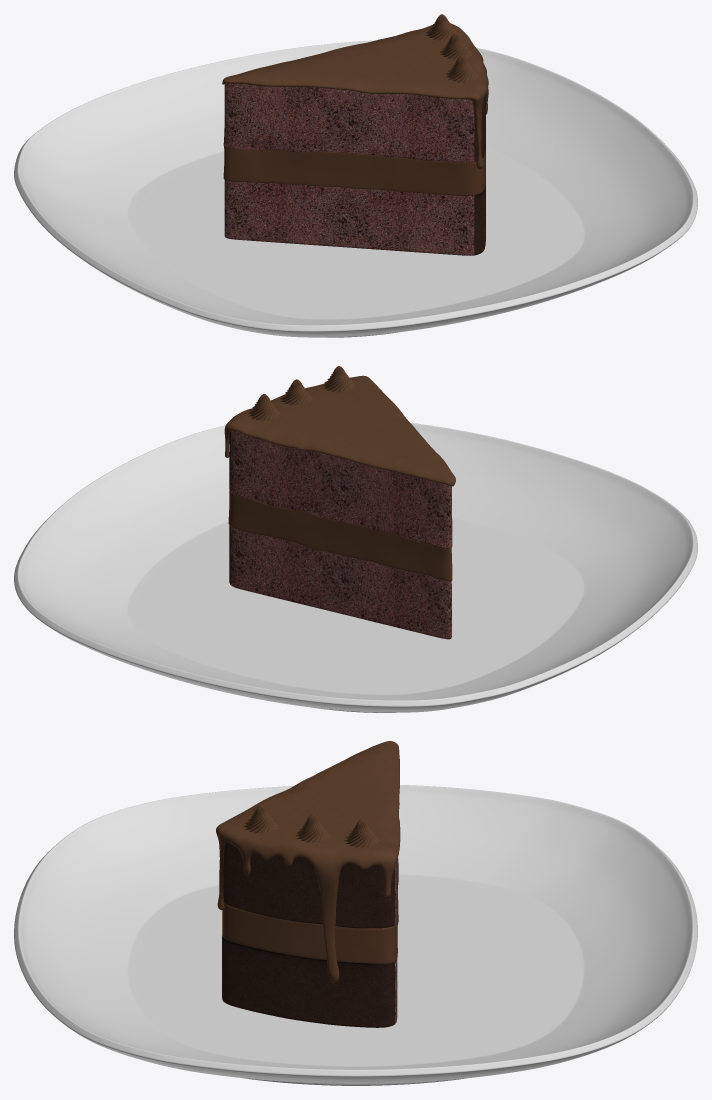
File: sokoladinis_tortas.glb
The picture shows the model from 3 angles, top to bottom: view 1: azimuth 30°, elevation 25°; view 2: azimuth 150°, elevation 25°; view 3: azimuth 270°, elevation 25°; orthographic projection. The views are drawn at different scales.
Parts seen in each view (by area): view 1: Plate, Kremas, Sololadas, Pyragas.001, Circle; view 2: Plate, Kremas, Sololadas, Pyragas.001, Circle; view 3: Plate, Kremas, Sololadas, Pyragas.001, Circle.
Boxes of the visible parts, <box> form: Plate: <box>14,40,697,337</box>; Kremas: <box>223,83,485,255</box>; Sololadas: <box>222,23,488,168</box>; Pyragas.001: <box>223,146,485,196</box>; Circle: <box>426,14,478,83</box>; Plate: <box>14,422,697,712</box>; Kremas: <box>229,431,452,639</box>; Sololadas: <box>224,375,455,486</box>; Pyragas.001: <box>228,490,452,581</box>; Circle: <box>248,366,355,421</box>; Plate: <box>14,785,697,1085</box>; Kremas: <box>222,842,398,1027</box>; Sololadas: <box>216,741,400,982</box>; Pyragas.001: <box>222,858,398,964</box>; Circle: <box>243,804,379,848</box>.
Bounding box in the file's own units: 0.1845 × 0.0645 × 0.1842.
Materials: 5 (4 with a texture image).
